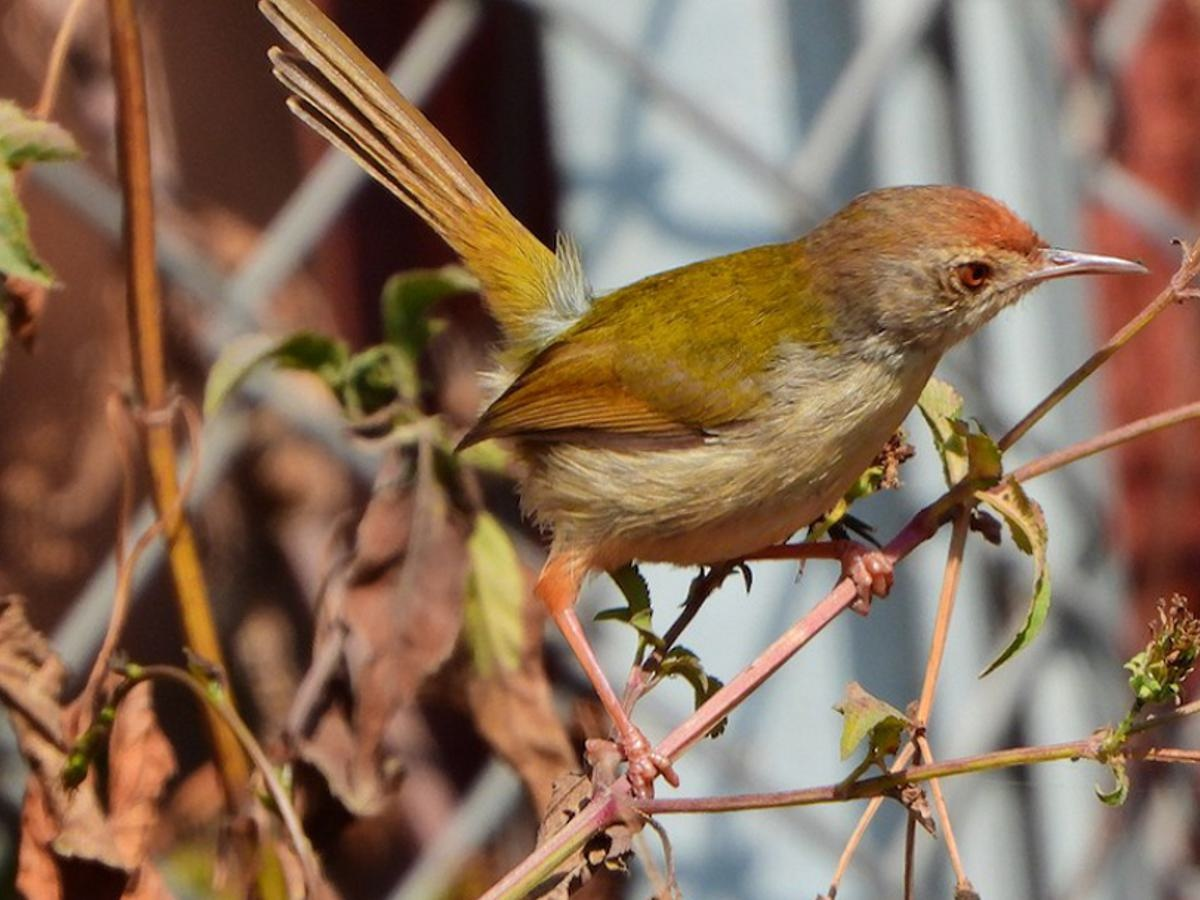tailorbird: (387, 75, 1099, 696)
